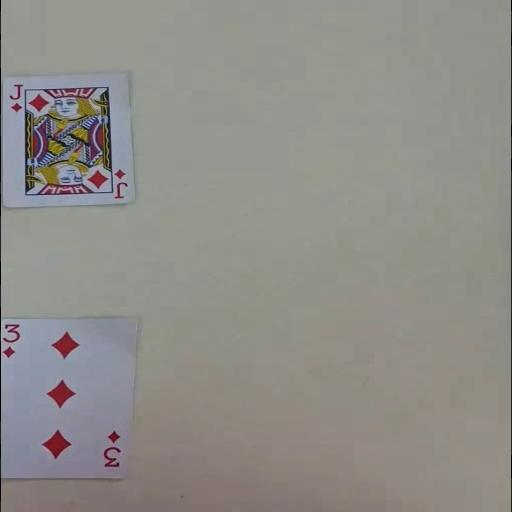3: (100, 429, 122, 468), (0, 322, 22, 359)
J: (111, 167, 128, 199), (6, 83, 24, 113)
